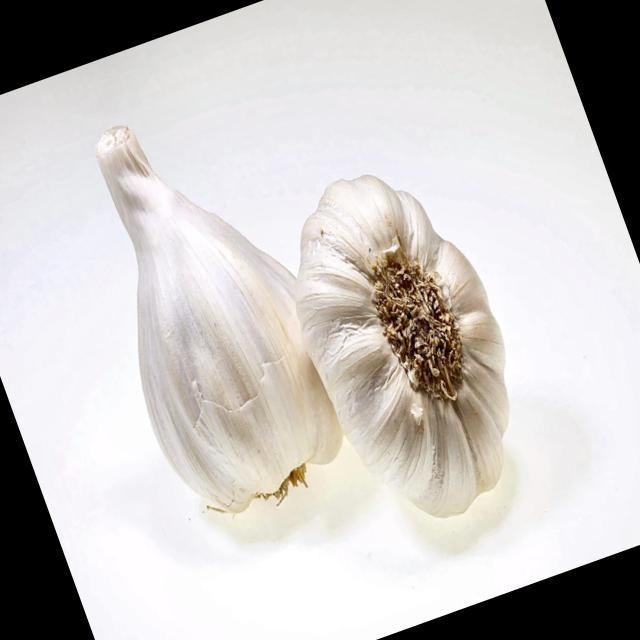garlic: (96, 128, 341, 512), (296, 176, 509, 516)
